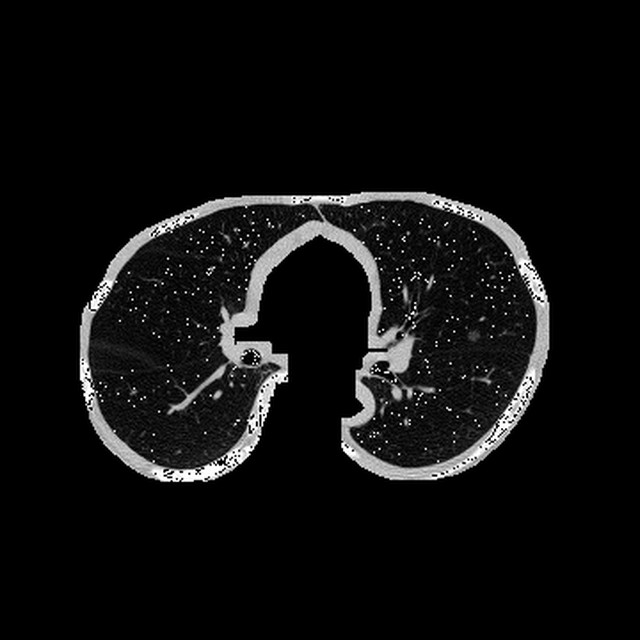PN: (468, 331, 478, 341)
